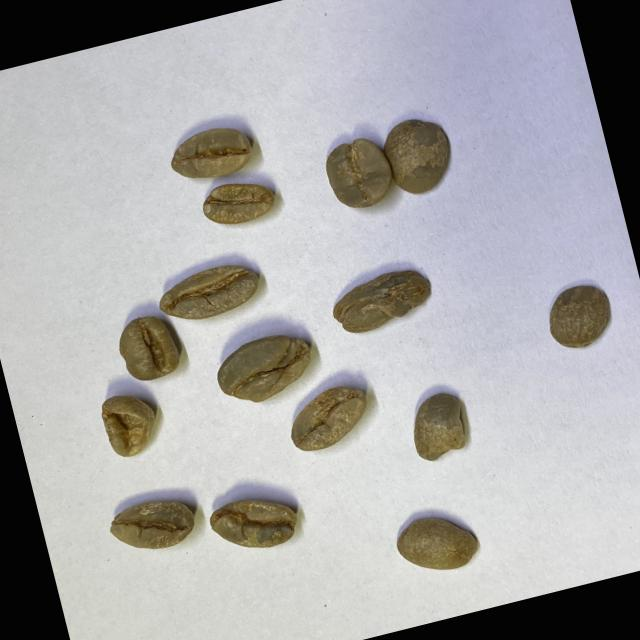bad: (210, 328, 322, 412), (326, 262, 438, 338), (151, 256, 265, 330), (280, 378, 378, 457), (205, 486, 304, 561), (102, 487, 201, 562), (111, 308, 186, 387), (94, 384, 166, 464), (405, 388, 474, 466)
good: (376, 110, 461, 202), (388, 503, 482, 582), (320, 132, 400, 216), (163, 119, 258, 189), (538, 277, 618, 356), (196, 174, 278, 232)
